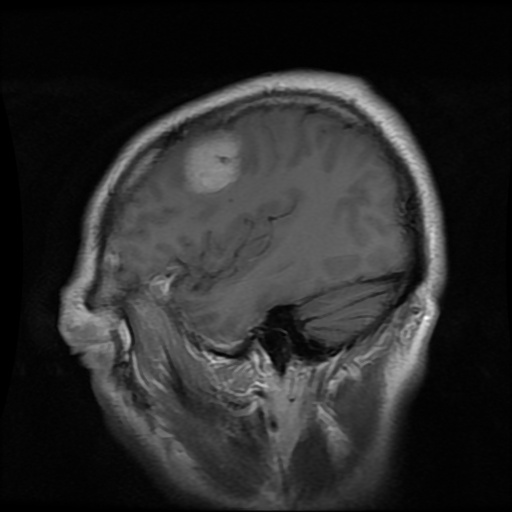meningioma: (181, 127, 241, 193)
